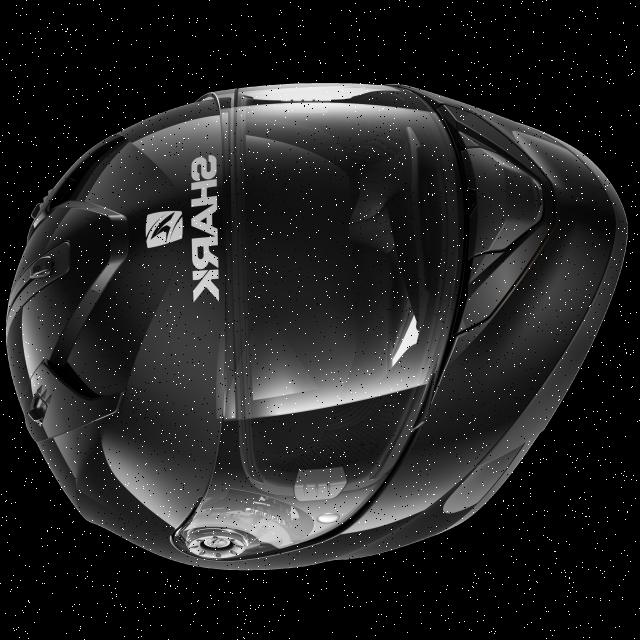Helmet: (1, 50, 635, 584)
